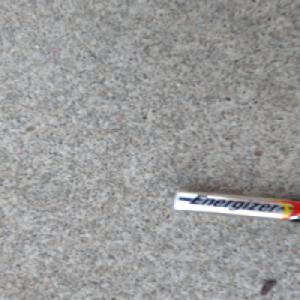Battery: (167, 185, 300, 224)
